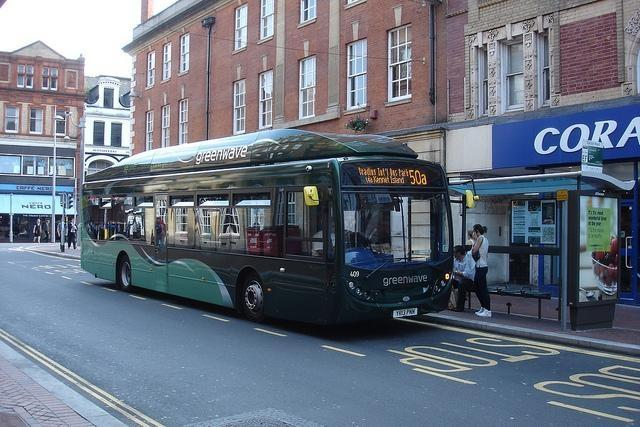bus: (80, 128, 453, 314)
